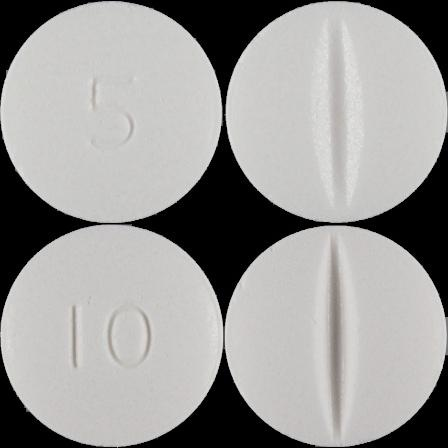16729-139: (0, 0, 224, 224)
